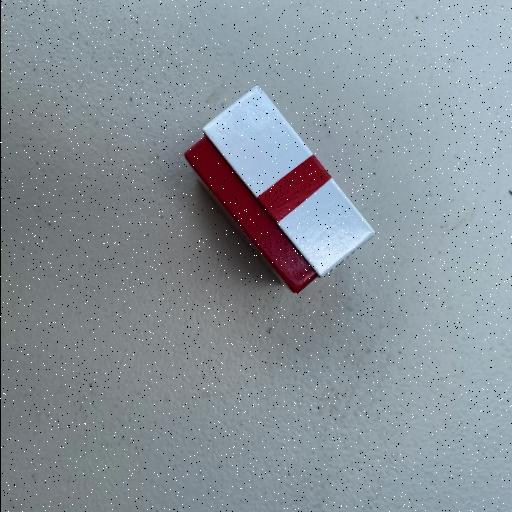Cardboard: (183, 83, 377, 294)
